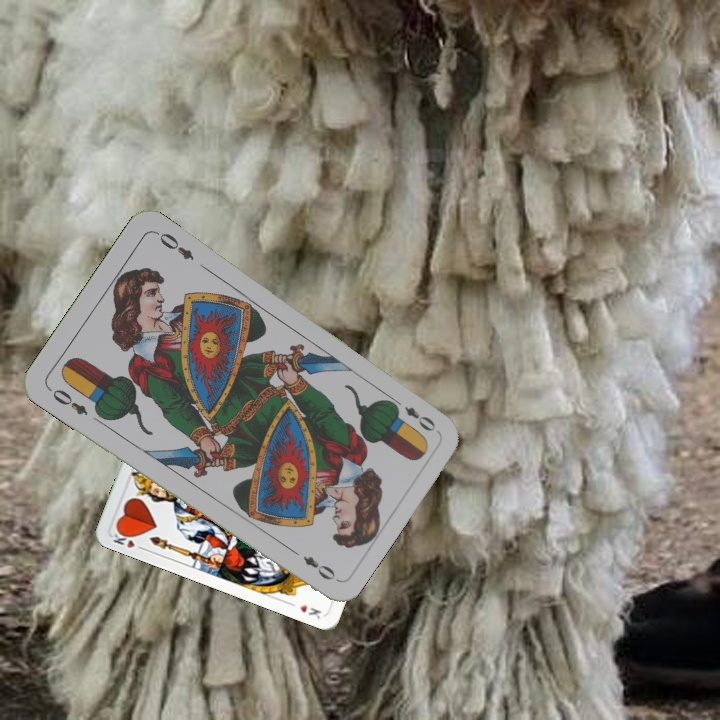EO: (387, 394, 439, 434), (44, 384, 91, 418)
HK: (109, 525, 147, 553)
